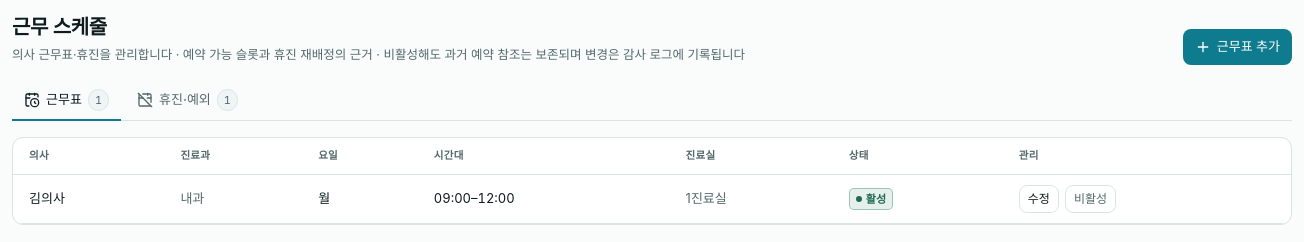
Scenario: ScheduleManager › 휴진·예외 탭 전환 → 사유·상태 표시
Click the tab "휴진·예외 1" at [187, 101], box [125,81,250,121]
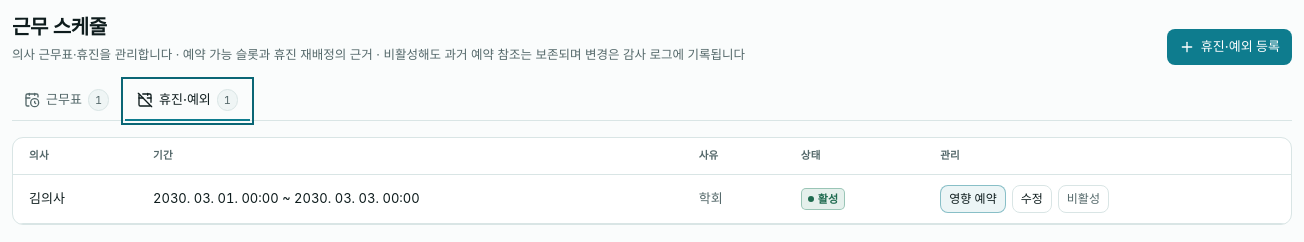
Expected: the text "활성" is shown, [801,188,845,210]
Expected: the text "학회" is shown, [683,175,785,224]
